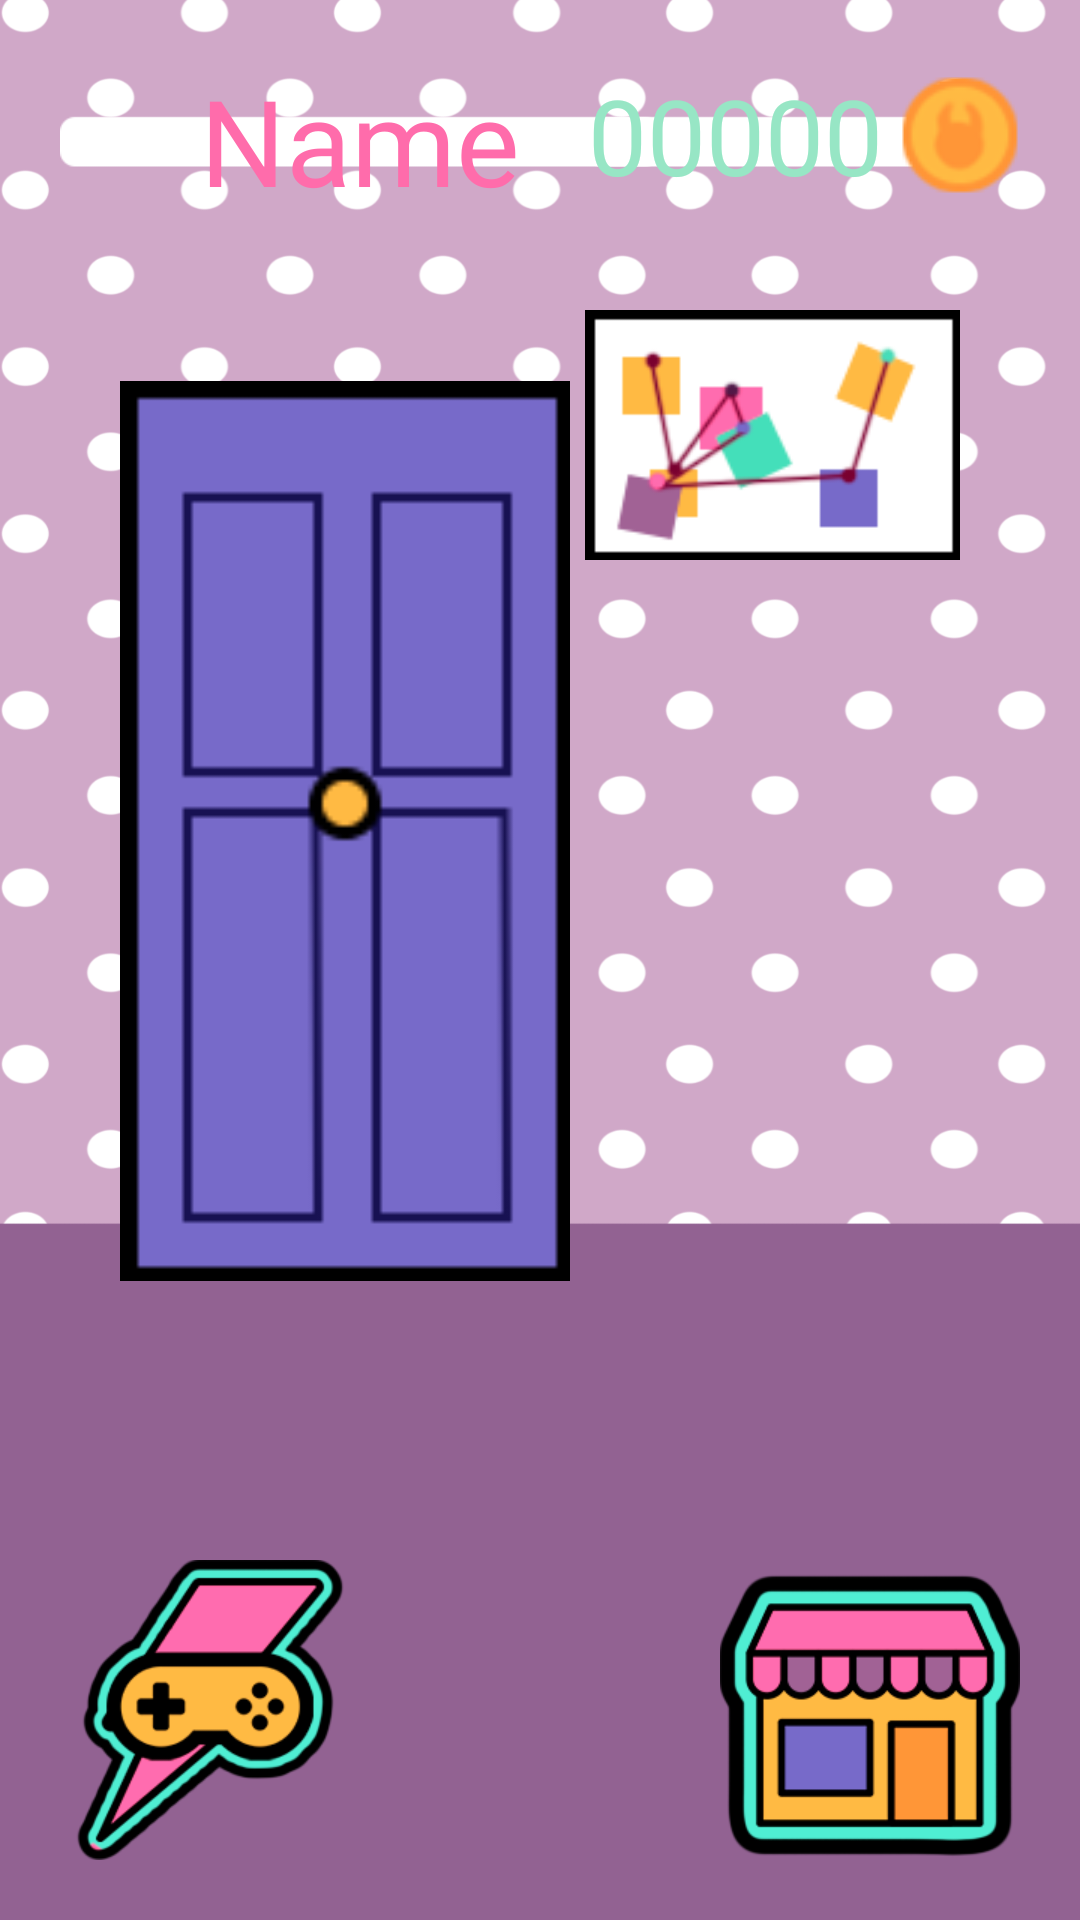

Point at icon controls on the screen. Image size 1080×1920, points as (x=x, y=y).
play iv: (x=210, y=1710)
shop iv: (x=870, y=1716)
